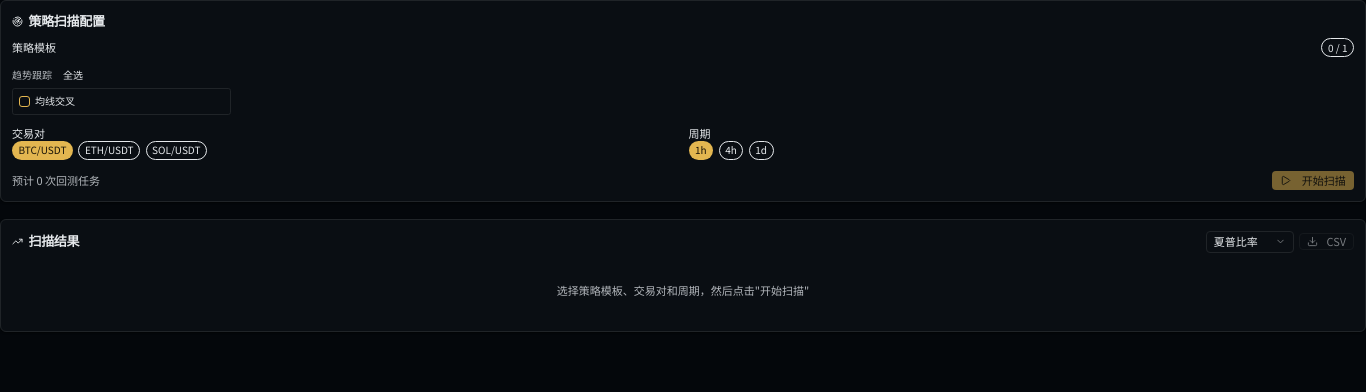
Test: 扫描期间不伪造结果 › 只有 status=completed 才落结果行
Click the checkbox at x=24, y=101, box [18,96,30,107]
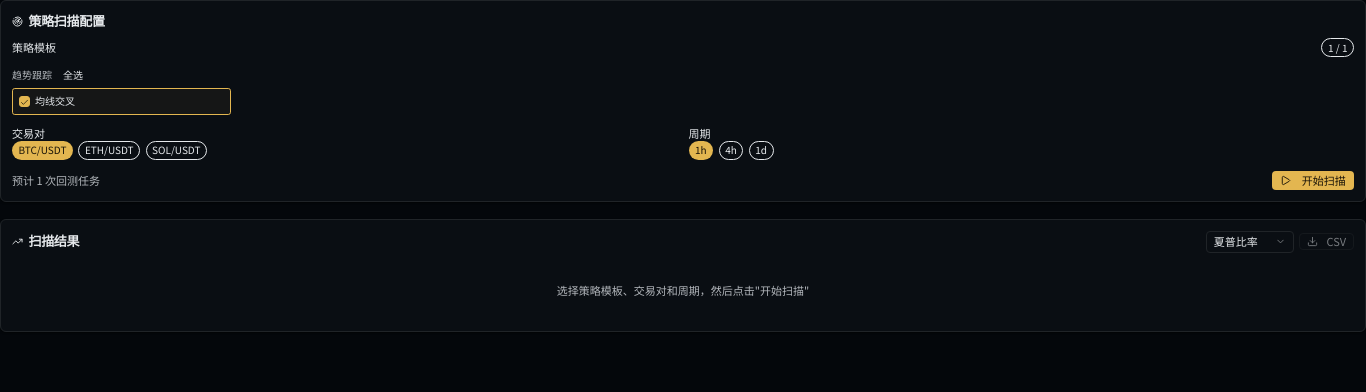
Click the button "开始扫描" at x=1313, y=180, box [1272,171,1354,190]
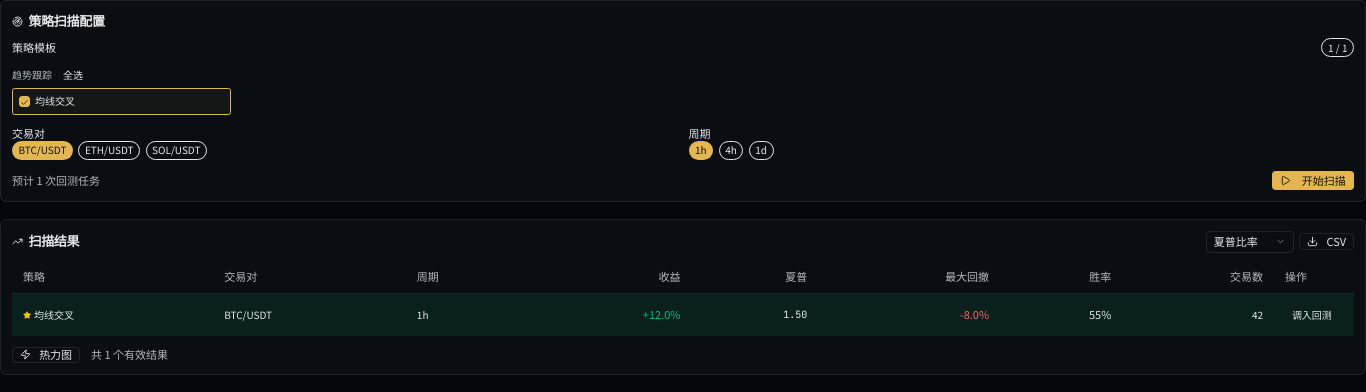
Result: the text "+12.0%" is shown at [643,306,680,322]
Result: the text "共 1 个有效结果" is shown at [91,347,168,362]
